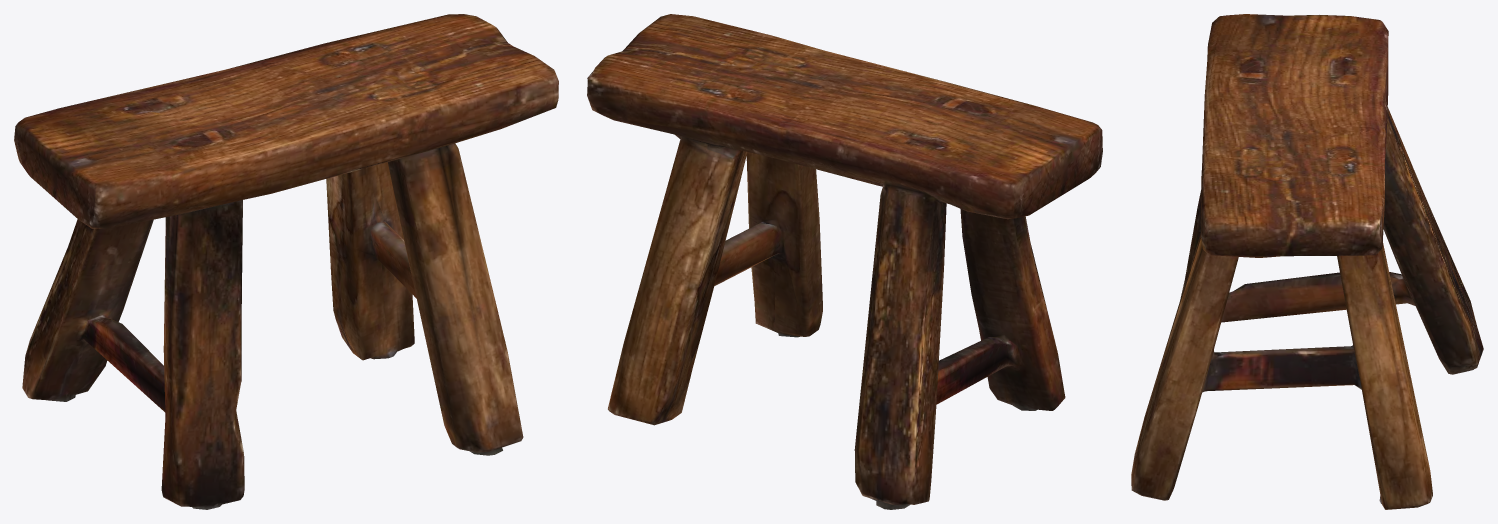
Rendered from wooden_stool_02.glb.
3 renders of one model, left to right at view 1: azimuth 30°, elevation 25°; view 2: azimuth 150°, elevation 25°; view 3: azimuth 270°, elevation 25°, orthographic. The views are drawn at different scales.
Visible parts, largest first — view 1: wooden_stool_02; view 2: wooden_stool_02; view 3: wooden_stool_02.
Boxes of the visible parts, left/top/right/bottom form: wooden_stool_02: left=14, top=14, right=558, bottom=509; wooden_stool_02: left=587, top=14, right=1102, bottom=509; wooden_stool_02: left=1131, top=14, right=1483, bottom=509.
Bounding box in the file's own units: 0.2642 × 0.1813 × 0.1826.
1 material, 1 textured.
